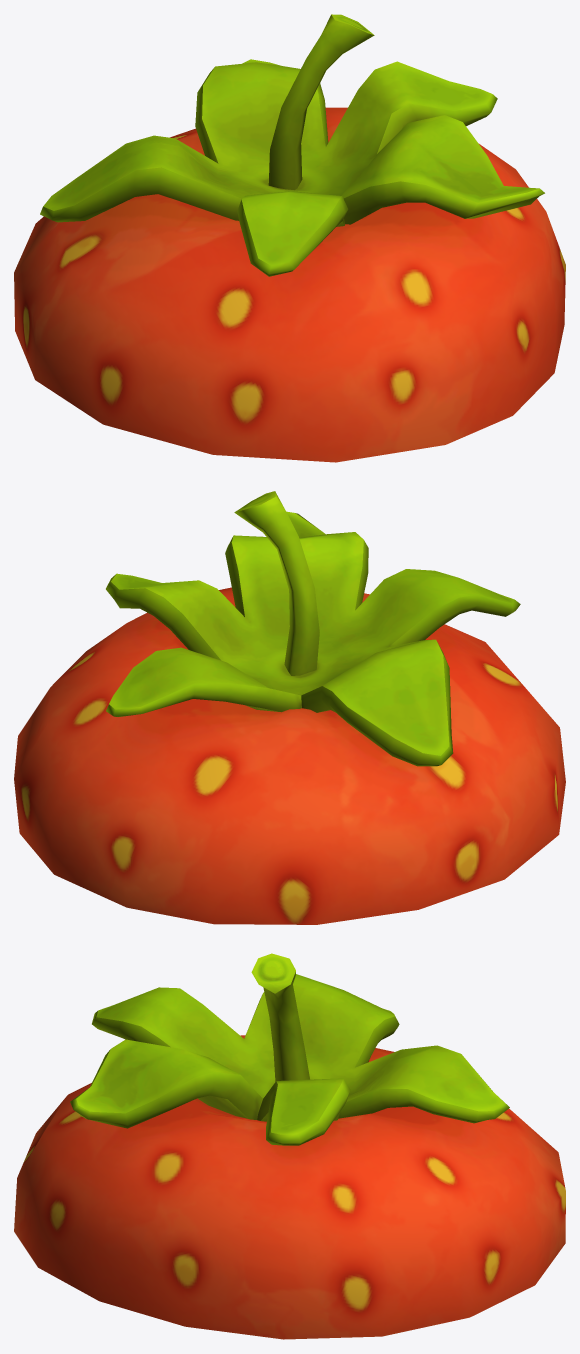
The model's file is SM_StrawberrySliceA.fbx.
3 views of the same model, one above another, from view 1: azimuth 30°, elevation 25°; view 2: azimuth 150°, elevation 25°; view 3: azimuth 270°, elevation 25° (orthographic). The views are drawn at different scales.
Parts seen in each view (by area): view 1: SM_StrawberrySliceA; view 2: SM_StrawberrySliceA; view 3: SM_StrawberrySliceA.
Part boxes in pixels (x1,y1,x2,y2): SM_StrawberrySliceA: [14, 14, 565, 462]; SM_StrawberrySliceA: [14, 491, 565, 924]; SM_StrawberrySliceA: [14, 953, 565, 1339].
Bounding box in the file's own units: 6.93 × 4.3 × 7.4.
